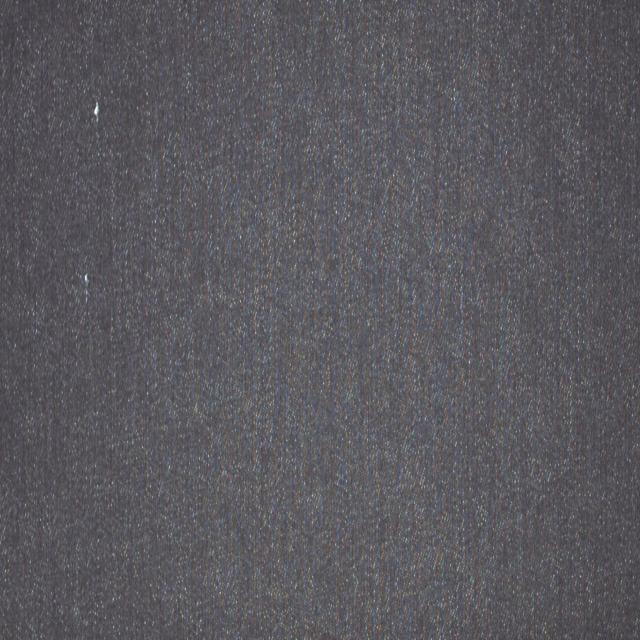Knot: (93, 100, 100, 122)
